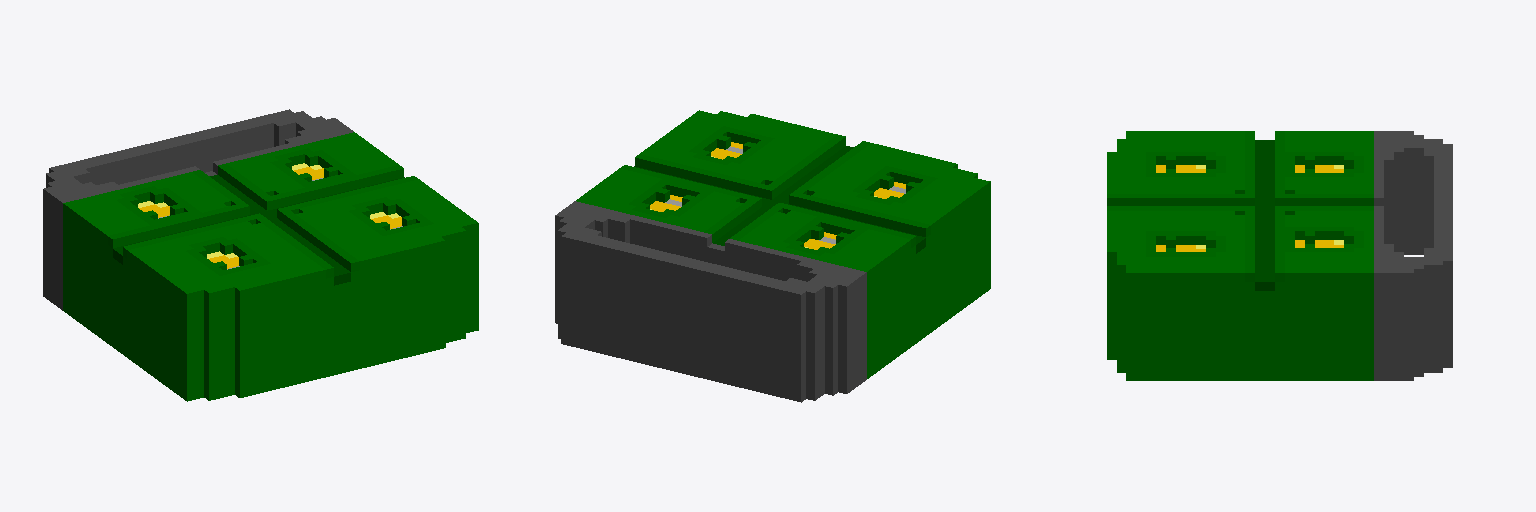
The picture shows the model from 3 angles: view 1: azimuth 30°, elevation 25°; view 2: azimuth 150°, elevation 25°; view 3: azimuth 270°, elevation 25°; orthographic projection.
Visible parts, largest first — view 1: object 1; view 2: object 1; view 3: object 1.
Part boxes in pixels (bbox=[...]): object 1: bbox=[43, 109, 478, 401]; object 1: bbox=[555, 110, 990, 402]; object 1: bbox=[1107, 131, 1452, 380].
Bounding box in the file's own units: 3.4 × 1.2 × 3.5.
1 materials, 1 textured.